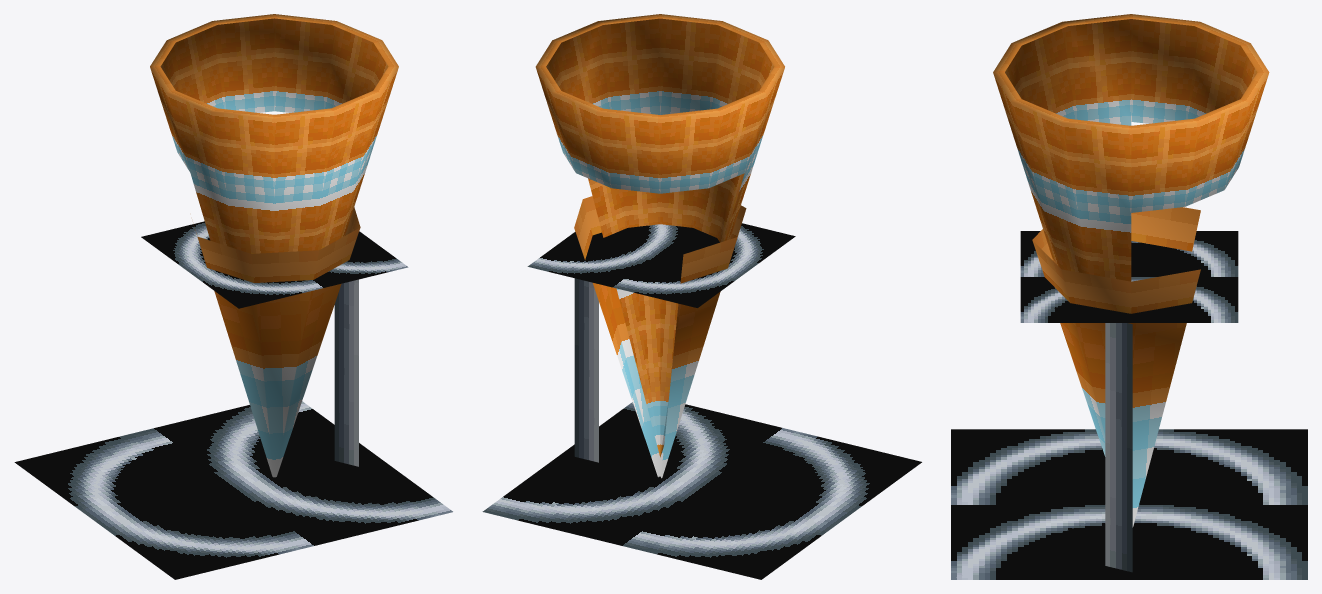
3 renders of one model, left to right at view 1: azimuth 30°, elevation 25°; view 2: azimuth 150°, elevation 25°; view 3: azimuth 270°, elevation 25°, orthographic. The views are drawn at different scales.
Visible parts, largest first — view 1: ice; view 2: ice; view 3: ice.
Boxes of the visible parts, x1,y1,x2,y2 form: ice: (14, 14, 452, 579); ice: (482, 14, 921, 579); ice: (951, 14, 1307, 579).
Size of the model in its own units: 0.3682 by 0.5081 by 0.3555.
2 materials, 2 textured.
